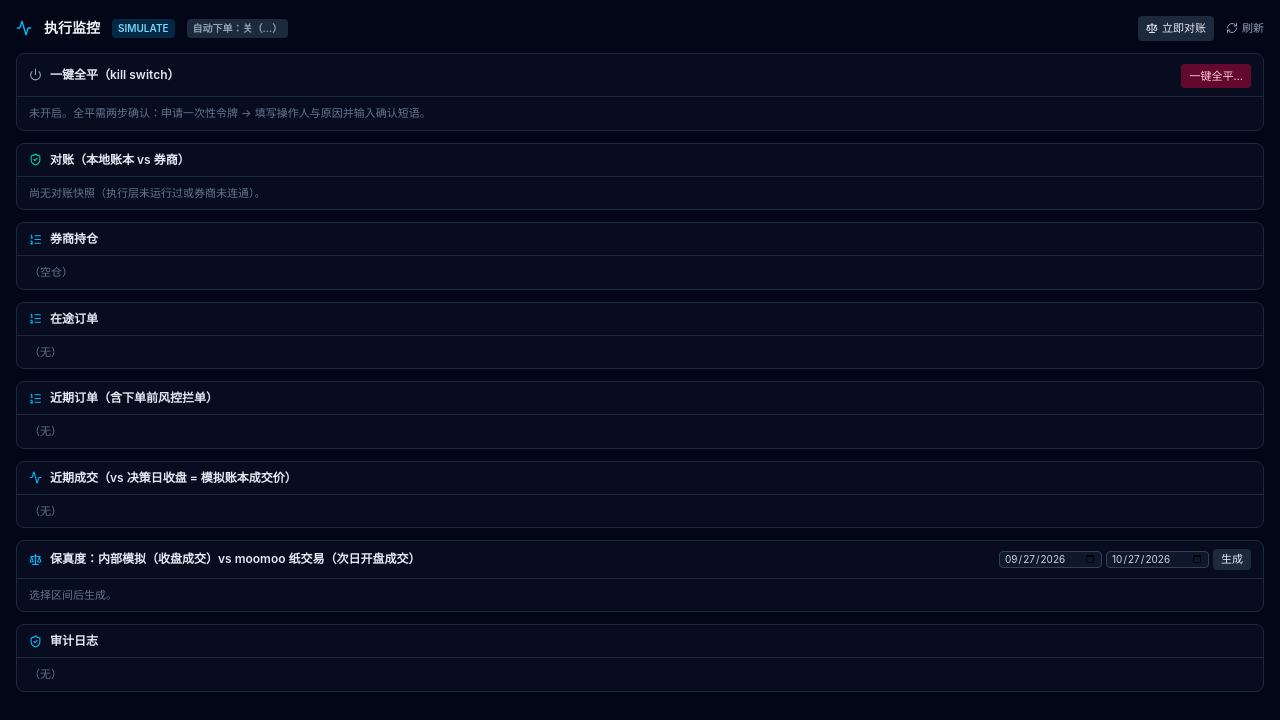
Test: ExecutionPanel — fidelity › renders the report fields and the unidentifiable permanent impact
The image size is (1280, 720).
Click the button "生成" at (1232, 559), box [1213,549,1251,570]
(page scrolled)
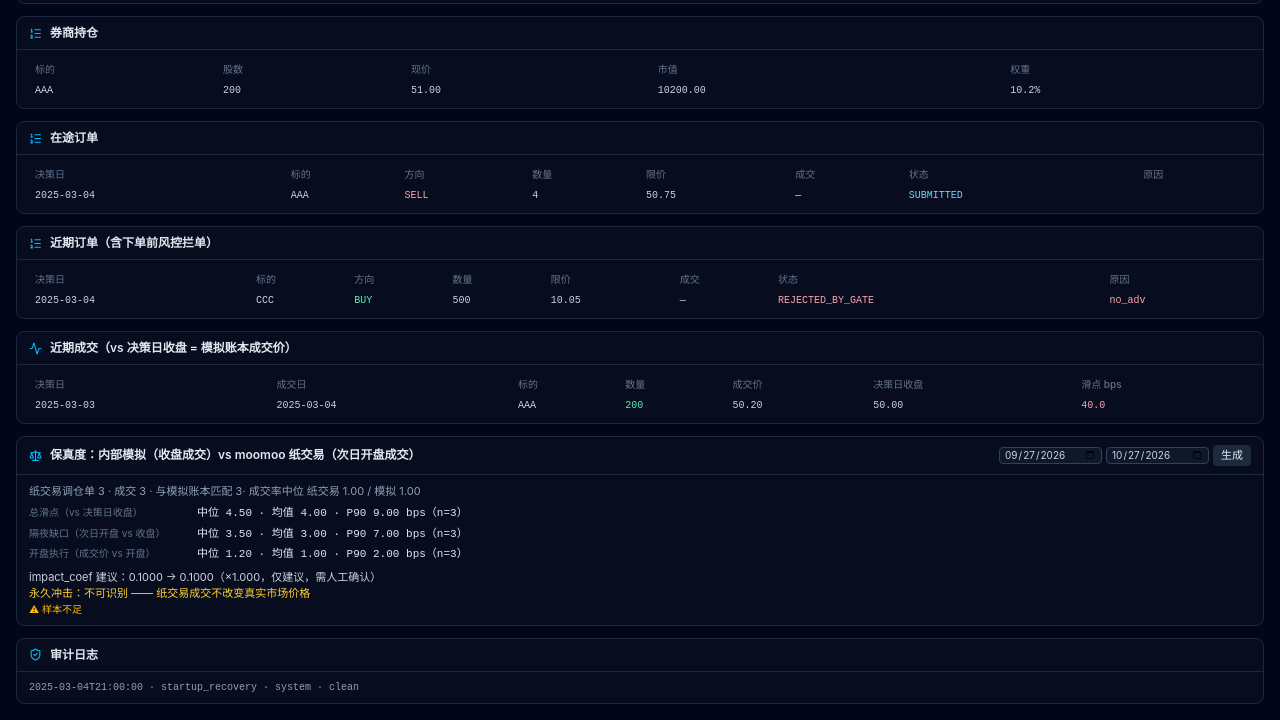
Expected: the element with test id "fidelity" shows "中位 4.50", [197,507,468,519]
Expected: the element with test id "fidelity" shows "中位 3.50", [197,528,468,540]
Expected: the element with test id "fidelity" shows "不可识别", [29,586,156,600]
